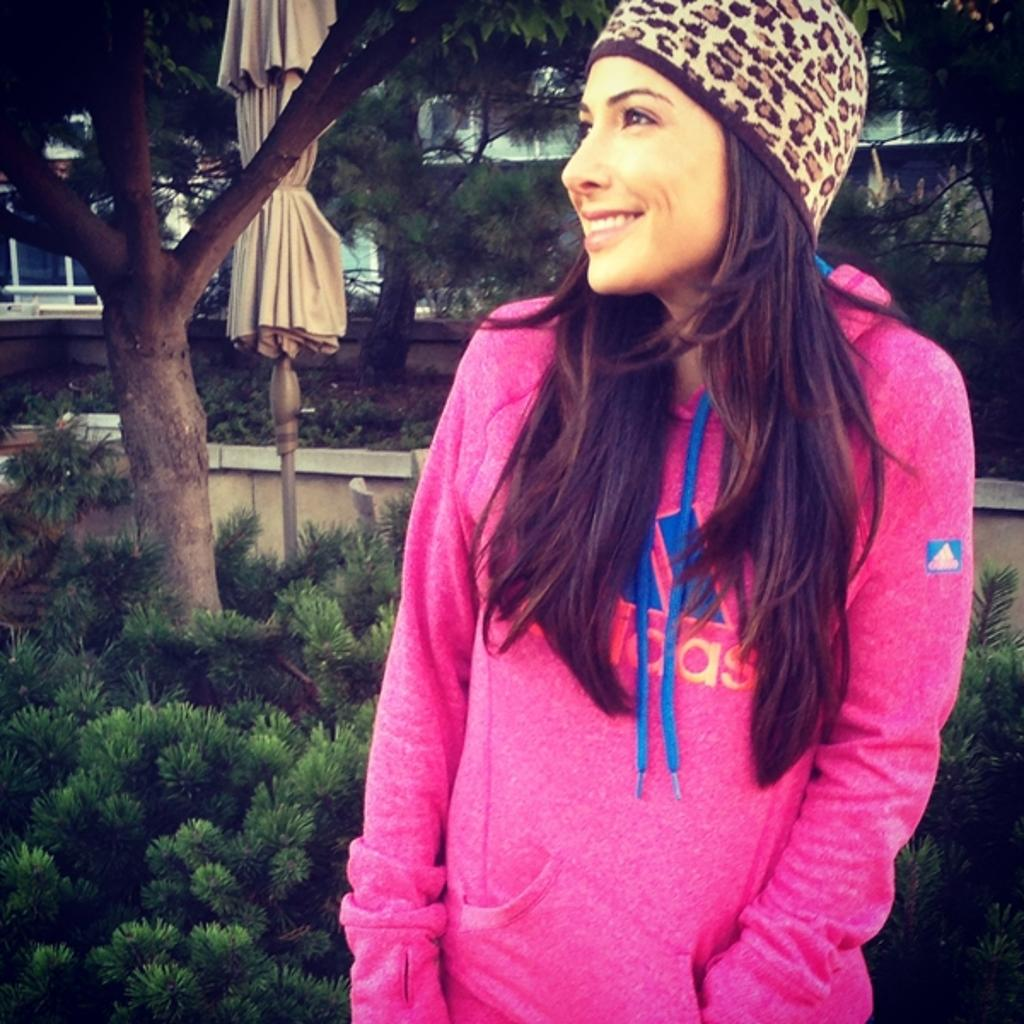face: (566, 42, 724, 288)
